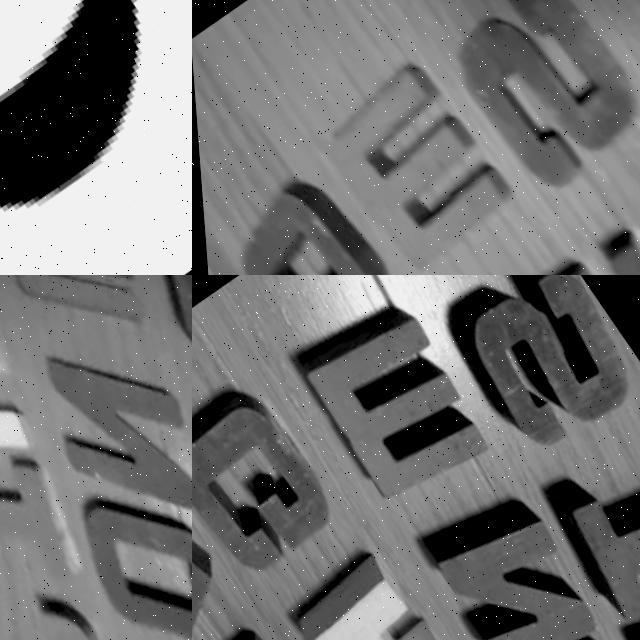5: (0, 0, 192, 275)
G: (192, 377, 343, 597), (207, 161, 408, 275)
H: (283, 569, 466, 640), (0, 279, 53, 508)
I: (0, 412, 89, 633)
J: (0, 595, 124, 640)
M: (288, 298, 493, 525), (312, 62, 510, 275), (0, 275, 172, 367)
N: (13, 318, 192, 570), (416, 493, 598, 640)
O: (52, 474, 192, 640)
S: (427, 0, 640, 212), (432, 275, 640, 481), (130, 275, 192, 432)
T: (529, 433, 640, 640)
